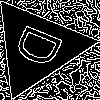D: (12, 22, 74, 74)
